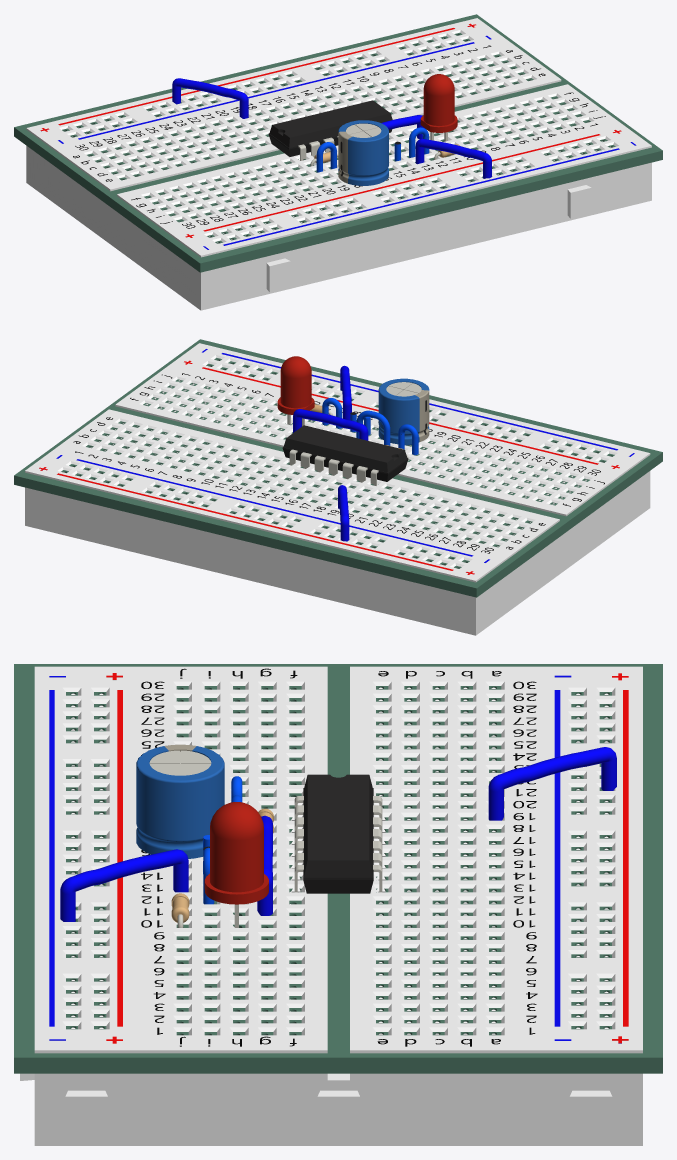
3 renders of one model, top to bottom at view 1: azimuth 30°, elevation 25°; view 2: azimuth 150°, elevation 25°; view 3: azimuth 270°, elevation 25°, orthographic. The views are drawn at different scales.
Parts seen in each view (by area): view 1: HalfBreadboard001, breadboard_PCB, HalfBreadboard, DIP-14_W7.62mm, CP_Radial_D80mm_P380mm, LED_D5.0mm, wire_12mm_Blue001, wire_12mm_Blue; view 2: HalfBreadboard001, breadboard_PCB, DIP-14_W7.62mm, HalfBreadboard, CP_Radial_D80mm_P380mm, LED_D5.0mm, wire_12mm_Blue002, wire_12mm_Blue001, wire_12mm_Blue; view 3: HalfBreadboard001, breadboard_PCB, DIP-14_W7.62mm, CP_Radial_D80mm_P380mm, HalfBreadboard, LED_D5.0mm, wire_12mm_Blue001, wire_12mm_Blue, wire_12mm_Blue002.
Boxes of the visible parts, bbox=[...] form: HalfBreadboard001: bbox=[26, 18, 651, 304]; breadboard_PCB: bbox=[14, 14, 662, 272]; HalfBreadboard: bbox=[26, 177, 651, 310]; DIP-14_W7.62mm: bbox=[268, 100, 392, 160]; CP_Radial_D80mm_P380mm: bbox=[338, 120, 388, 185]; LED_D5.0mm: bbox=[420, 74, 457, 141]; wire_12mm_Blue001: bbox=[172, 78, 248, 118]; wire_12mm_Blue: bbox=[415, 138, 491, 178]; HalfBreadboard001: bbox=[25, 343, 650, 629]; breadboard_PCB: bbox=[14, 339, 662, 597]; DIP-14_W7.62mm: bbox=[282, 425, 408, 485]; HalfBreadboard: bbox=[25, 502, 650, 635]; CP_Radial_D80mm_P380mm: bbox=[378, 378, 429, 445]; LED_D5.0mm: bbox=[277, 356, 314, 426]; wire_12mm_Blue002: bbox=[293, 409, 368, 440]; wire_12mm_Blue001: bbox=[338, 485, 349, 541]; wire_12mm_Blue: bbox=[340, 365, 351, 420]; HalfBreadboard001: bbox=[20, 666, 642, 1141]; breadboard_PCB: bbox=[14, 664, 662, 1073]; DIP-14_W7.62mm: bbox=[294, 774, 382, 893]; CP_Radial_D80mm_P380mm: bbox=[136, 744, 224, 858]; HalfBreadboard: bbox=[34, 1135, 642, 1145]; LED_D5.0mm: bbox=[204, 802, 268, 927]; wire_12mm_Blue001: bbox=[488, 747, 616, 820]; wire_12mm_Blue: bbox=[60, 849, 188, 921]; wire_12mm_Blue002: bbox=[257, 815, 272, 915].
Size of the model in its own units: 8.42 by 2.09 by 5.84.
